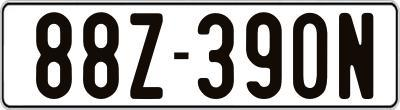0: (291, 13, 330, 101)
3: (197, 11, 239, 103)
8: (82, 9, 121, 98), (33, 12, 71, 101)
9: (244, 11, 284, 99)
N: (336, 11, 370, 100)
Z: (128, 13, 166, 100)
